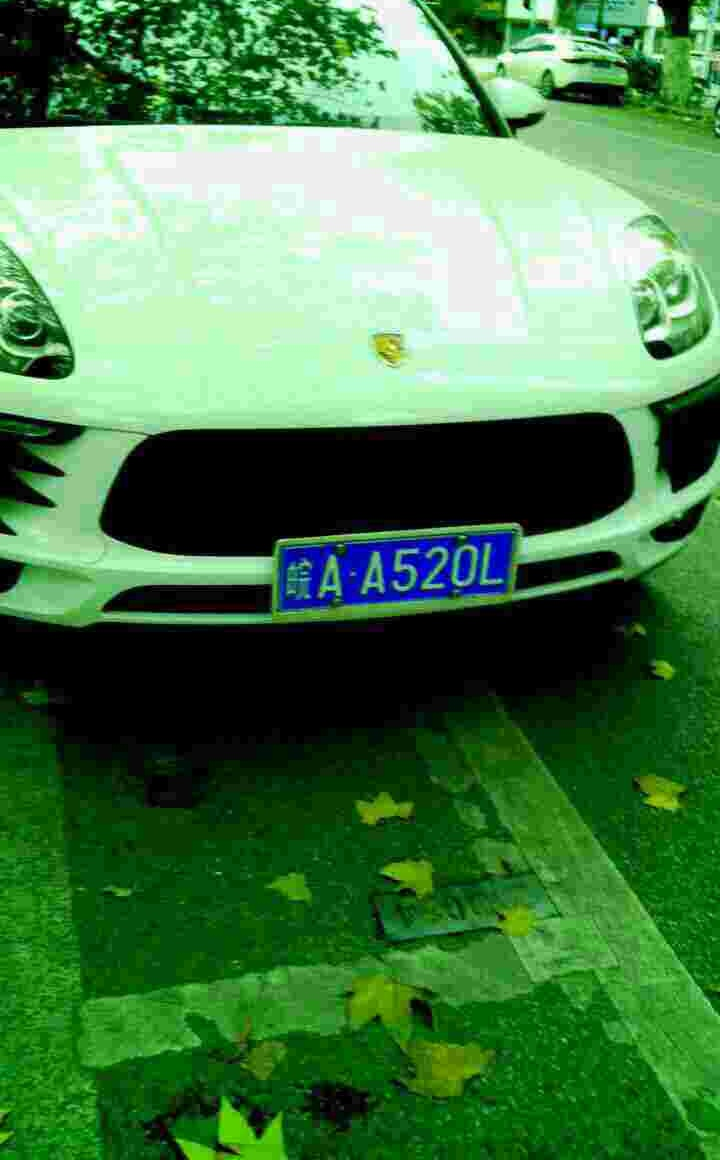plate: (282, 526, 521, 615)
